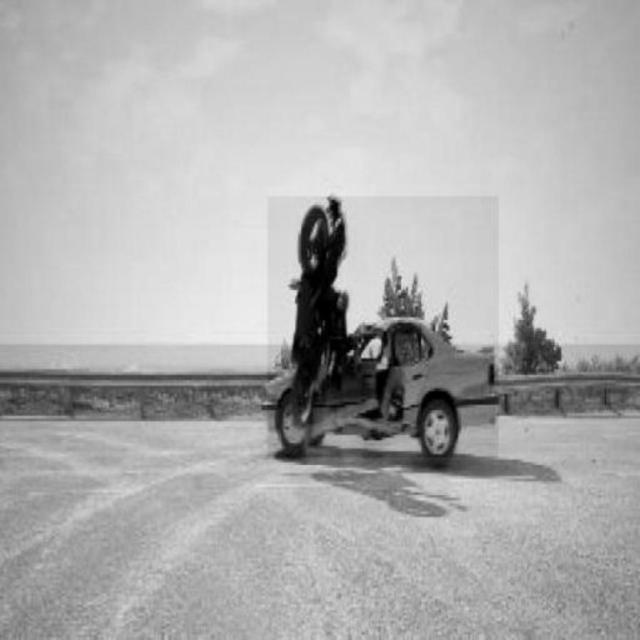accident: (268, 197, 499, 458)
